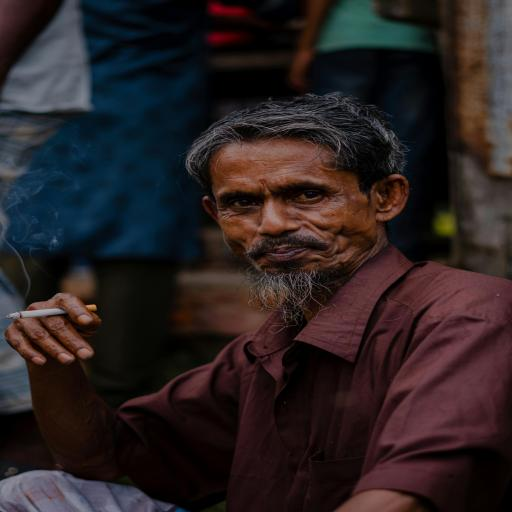pegang rokok: (0, 234, 135, 384)
